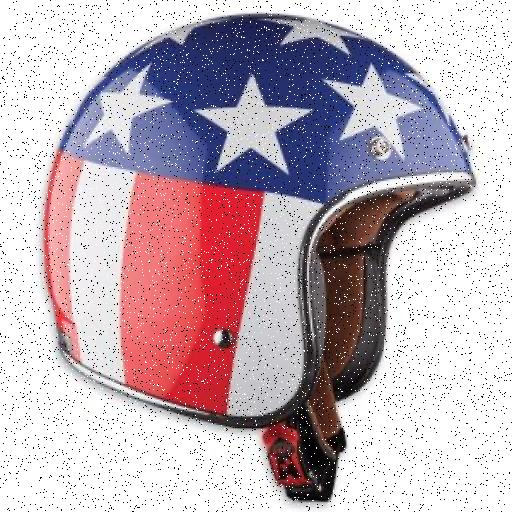Helmet: (36, 28, 490, 470)
